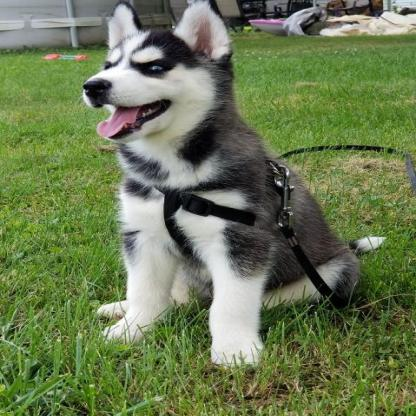dog: (80, 6, 366, 368)
